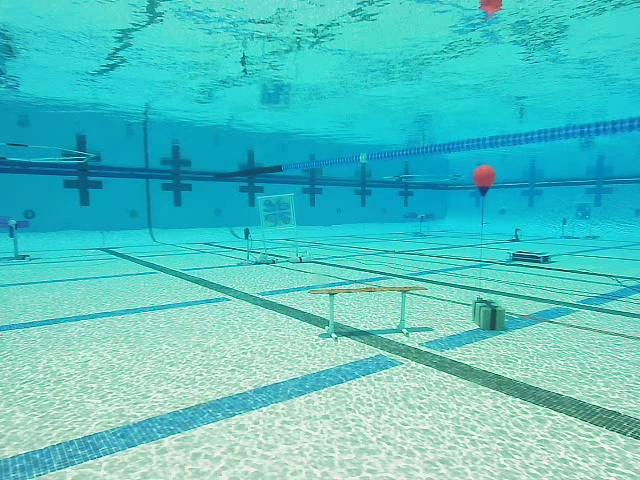buoy: (473, 165, 496, 198)
torpedo: (257, 193, 296, 231)
